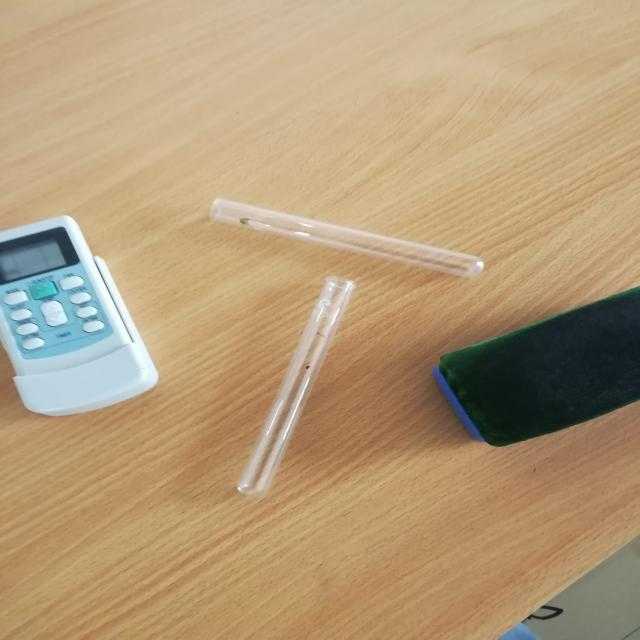Test_Tube: (173, 174, 521, 292), (224, 262, 384, 515)
